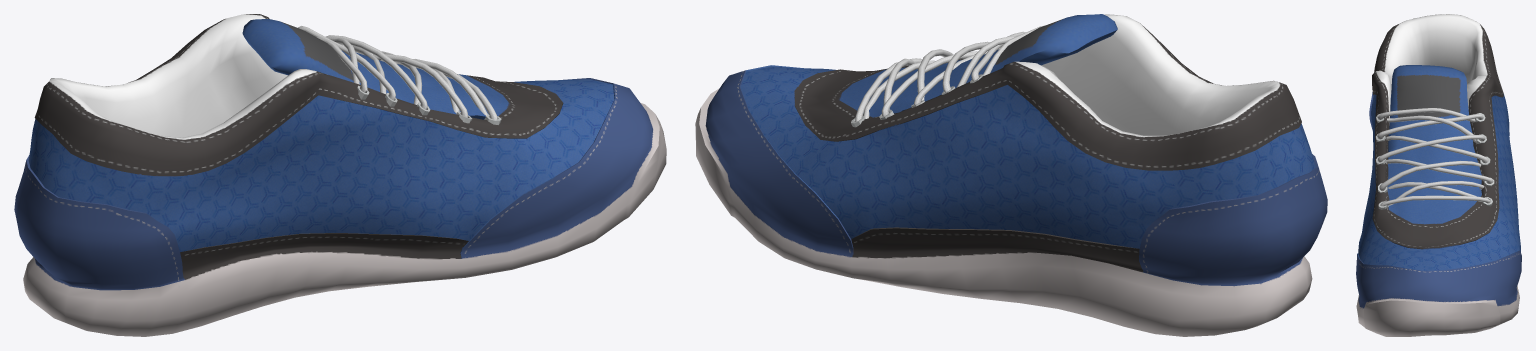
Rendered from sportsShoes.fbx.
3 views of the same model, side by side, from view 1: azimuth 30°, elevation 25°; view 2: azimuth 150°, elevation 25°; view 3: azimuth 270°, elevation 25° (orthographic). The views are drawn at different scales.
Visible parts, largest first — view 1: sportsShoes; view 2: sportsShoes; view 3: sportsShoes.
Boxes of the visible parts, x1=… form: sportsShoes: x1=14, y1=14, x2=666, y2=336; sportsShoes: x1=695, y1=14, x2=1327, y2=336; sportsShoes: x1=1356, y1=14, x2=1521, y2=336.
Size of the model in its own units: 380 by 149 by 127.
